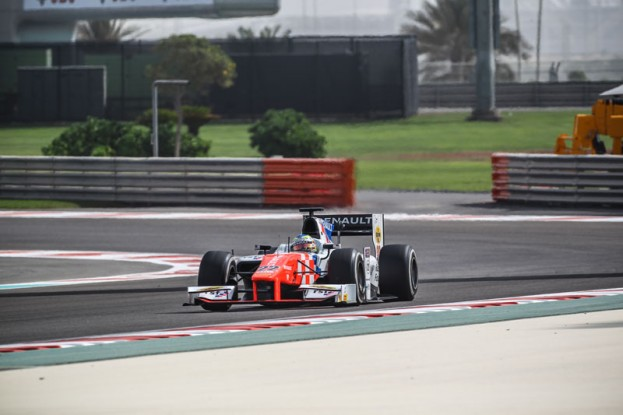race car: (181, 204, 421, 318)
